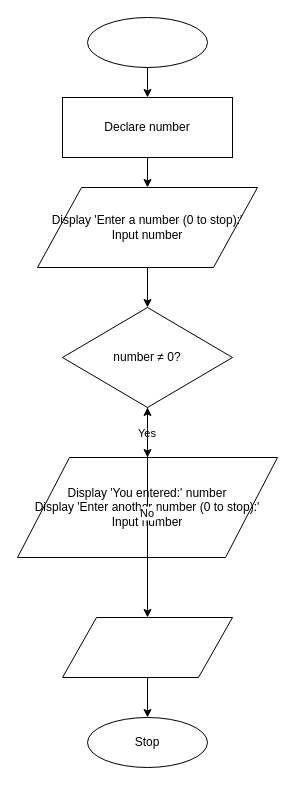
Image size: 295x785. Some labels were removed from this diagram. The shapes that lost their labels are listed below. From the top down, each one's centre as x and y in pixels, then its label:
At (147,42): "Start".
At (147,647): "Display 'Program ended.'".
